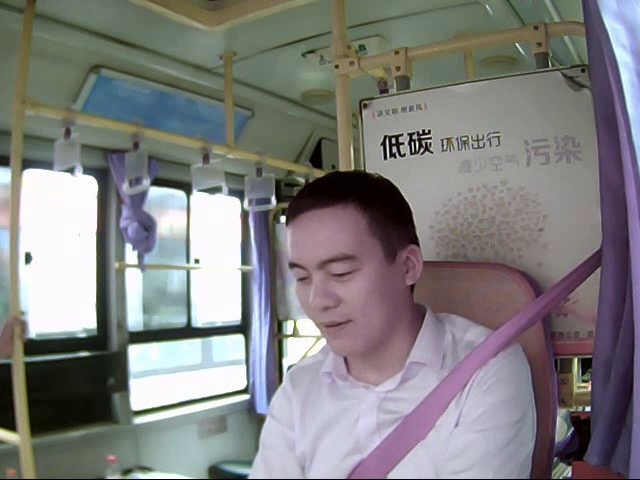closed_eye: (322, 267, 359, 280), (292, 272, 308, 285)
closed_mouth: (317, 314, 350, 338)
